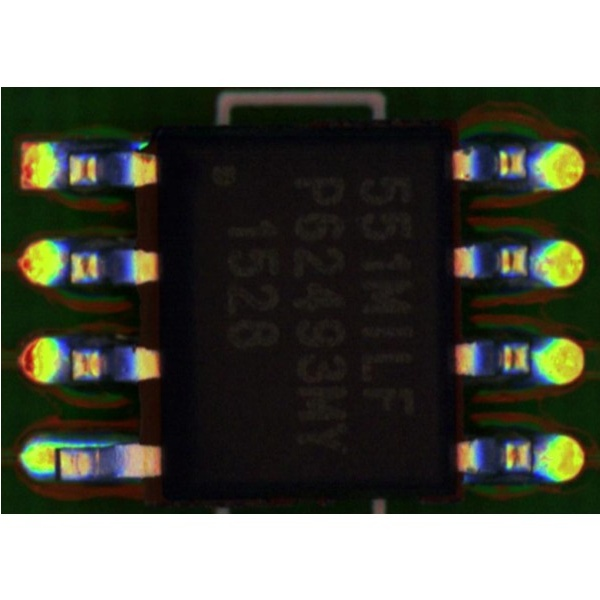Bad_podu: (45, 448, 67, 475)
Bad_qiaojiao: (60, 442, 117, 449)
